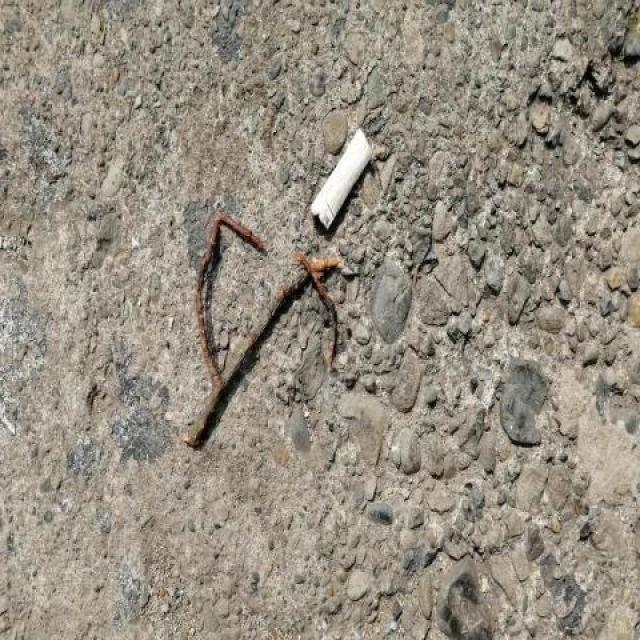non-organic waste: (307, 123, 378, 240)
